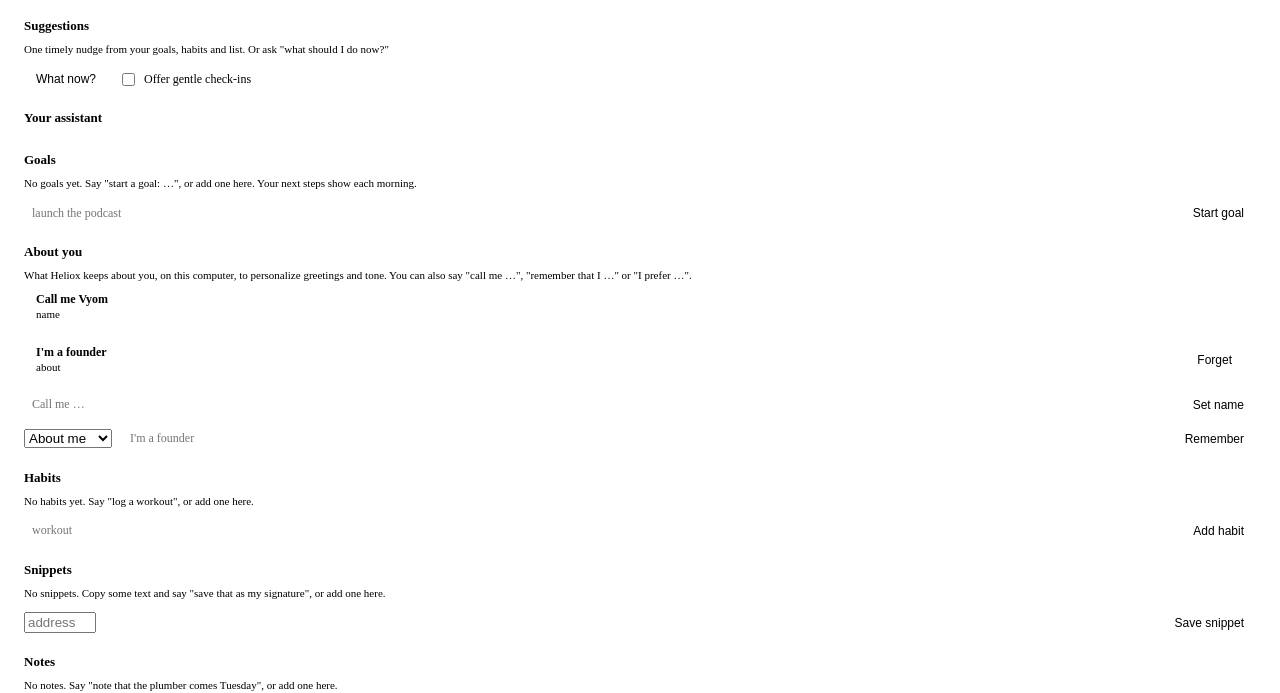
TodayPanel › shows the About you profile, sets a name and forgets an entry
(page scrolled)
Expected: the text "I'm a founder" is shown, top-left (36, 345), bottom-right (107, 359)
Click the button with aria-label "Forget I'm a founder" at (1215, 360), box top-left (1185, 348), bottom-right (1244, 374)
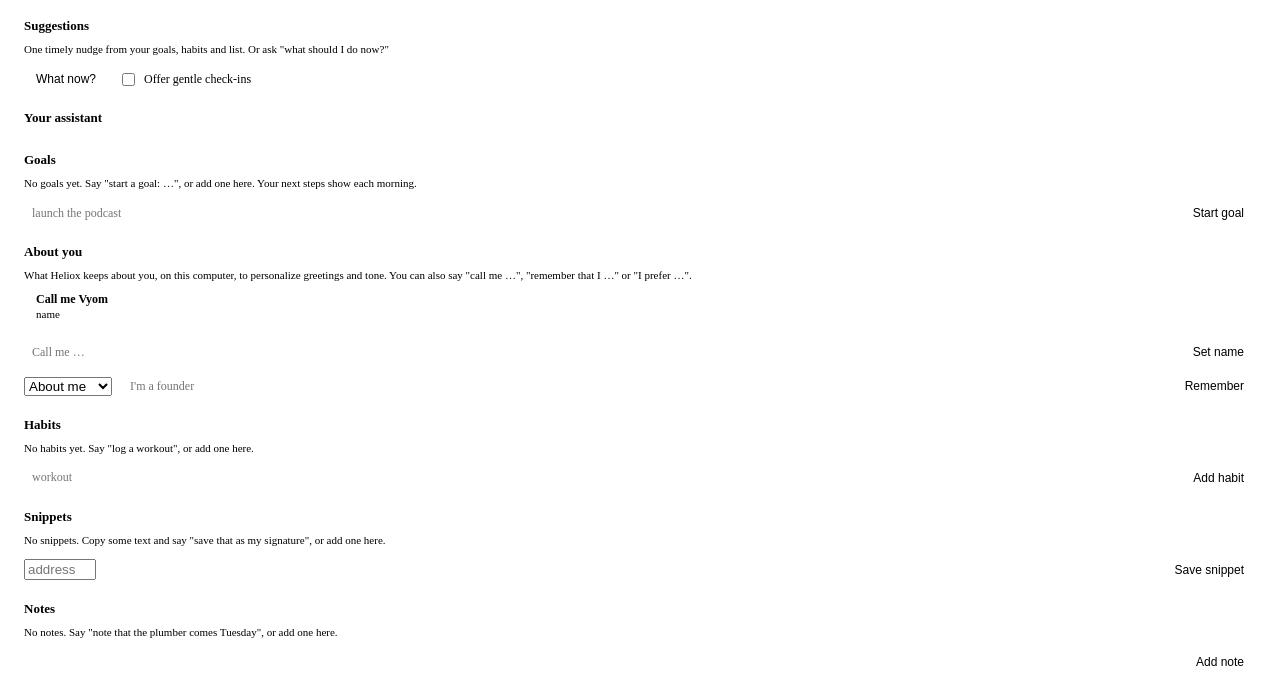
Type "Hardik" into the field labelled "Call me" at (597, 352), box top-left (24, 340), bottom-right (1171, 364)
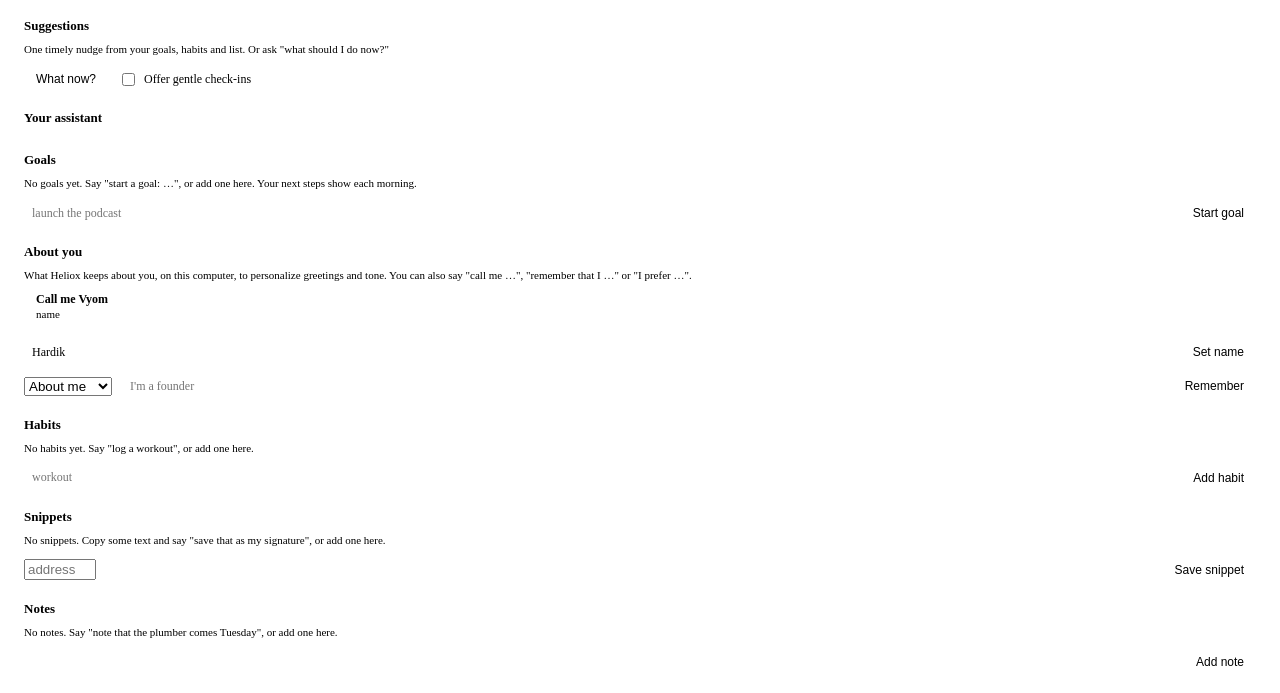
Click the button "Set name" at (1218, 352), box top-left (1181, 339), bottom-right (1256, 365)
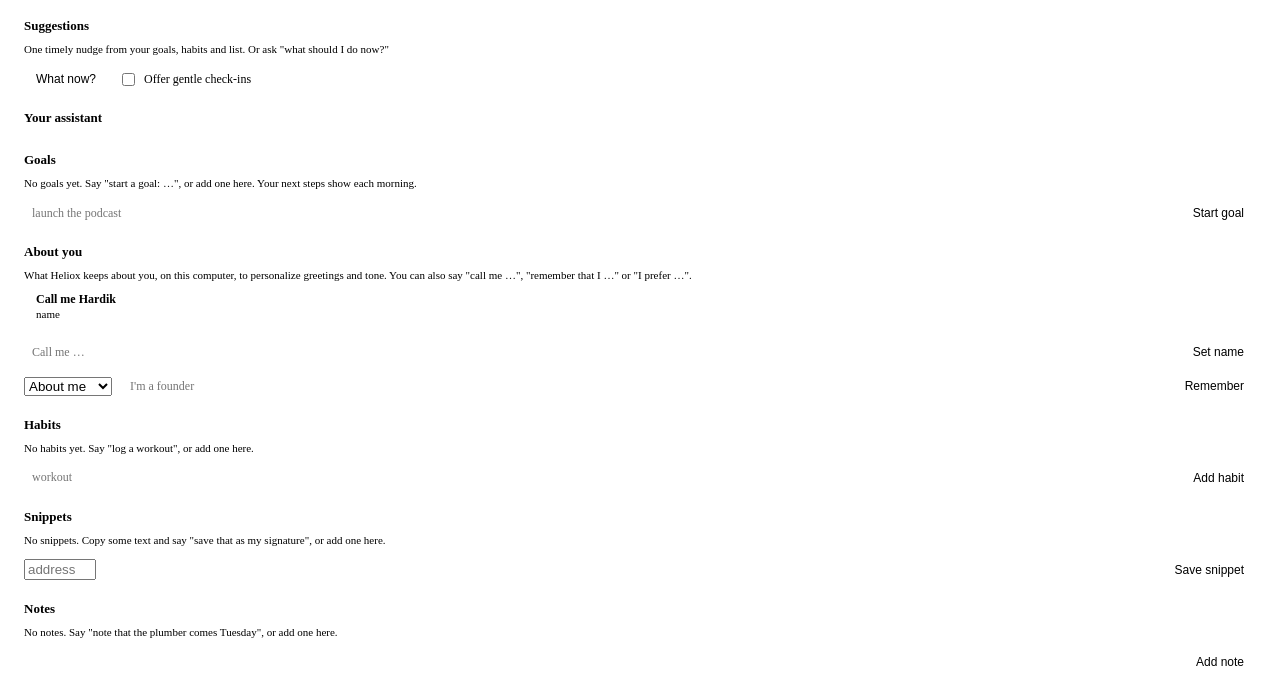
Now the text "Call me Hardik" is shown, box top-left (36, 292), bottom-right (116, 306)
